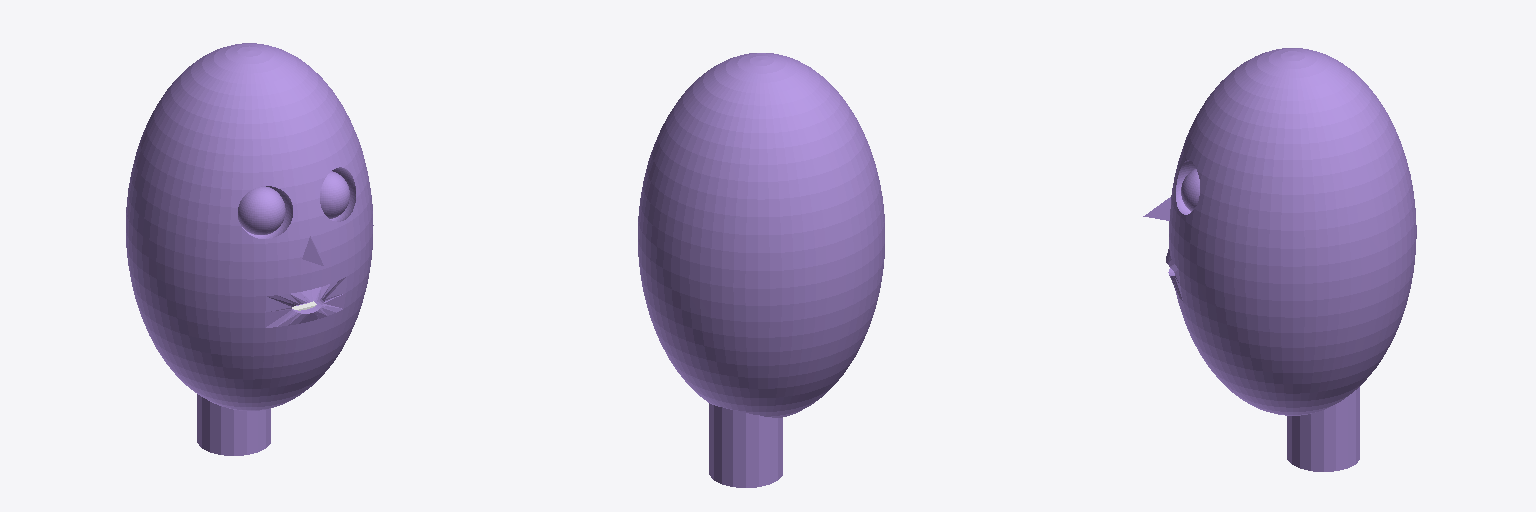
Rendered from testFaceNarrowedLips.obj.
The picture shows the model from 3 angles: view 1: azimuth 30°, elevation 25°; view 2: azimuth 150°, elevation 25°; view 3: azimuth 270°, elevation 25°; orthographic projection.
Parts seen in each view (by area): view 1: Sphere001; view 2: Sphere001; view 3: Sphere001.
Boxes of the visible parts, x1=… form: Sphere001: x1=126, y1=43, x2=373, y2=455; Sphere001: x1=638, y1=53, x2=884, y2=487; Sphere001: x1=1143, y1=48, x2=1416, y2=471.
Bounding box in the file's own units: 20 × 35.7 × 22.06.